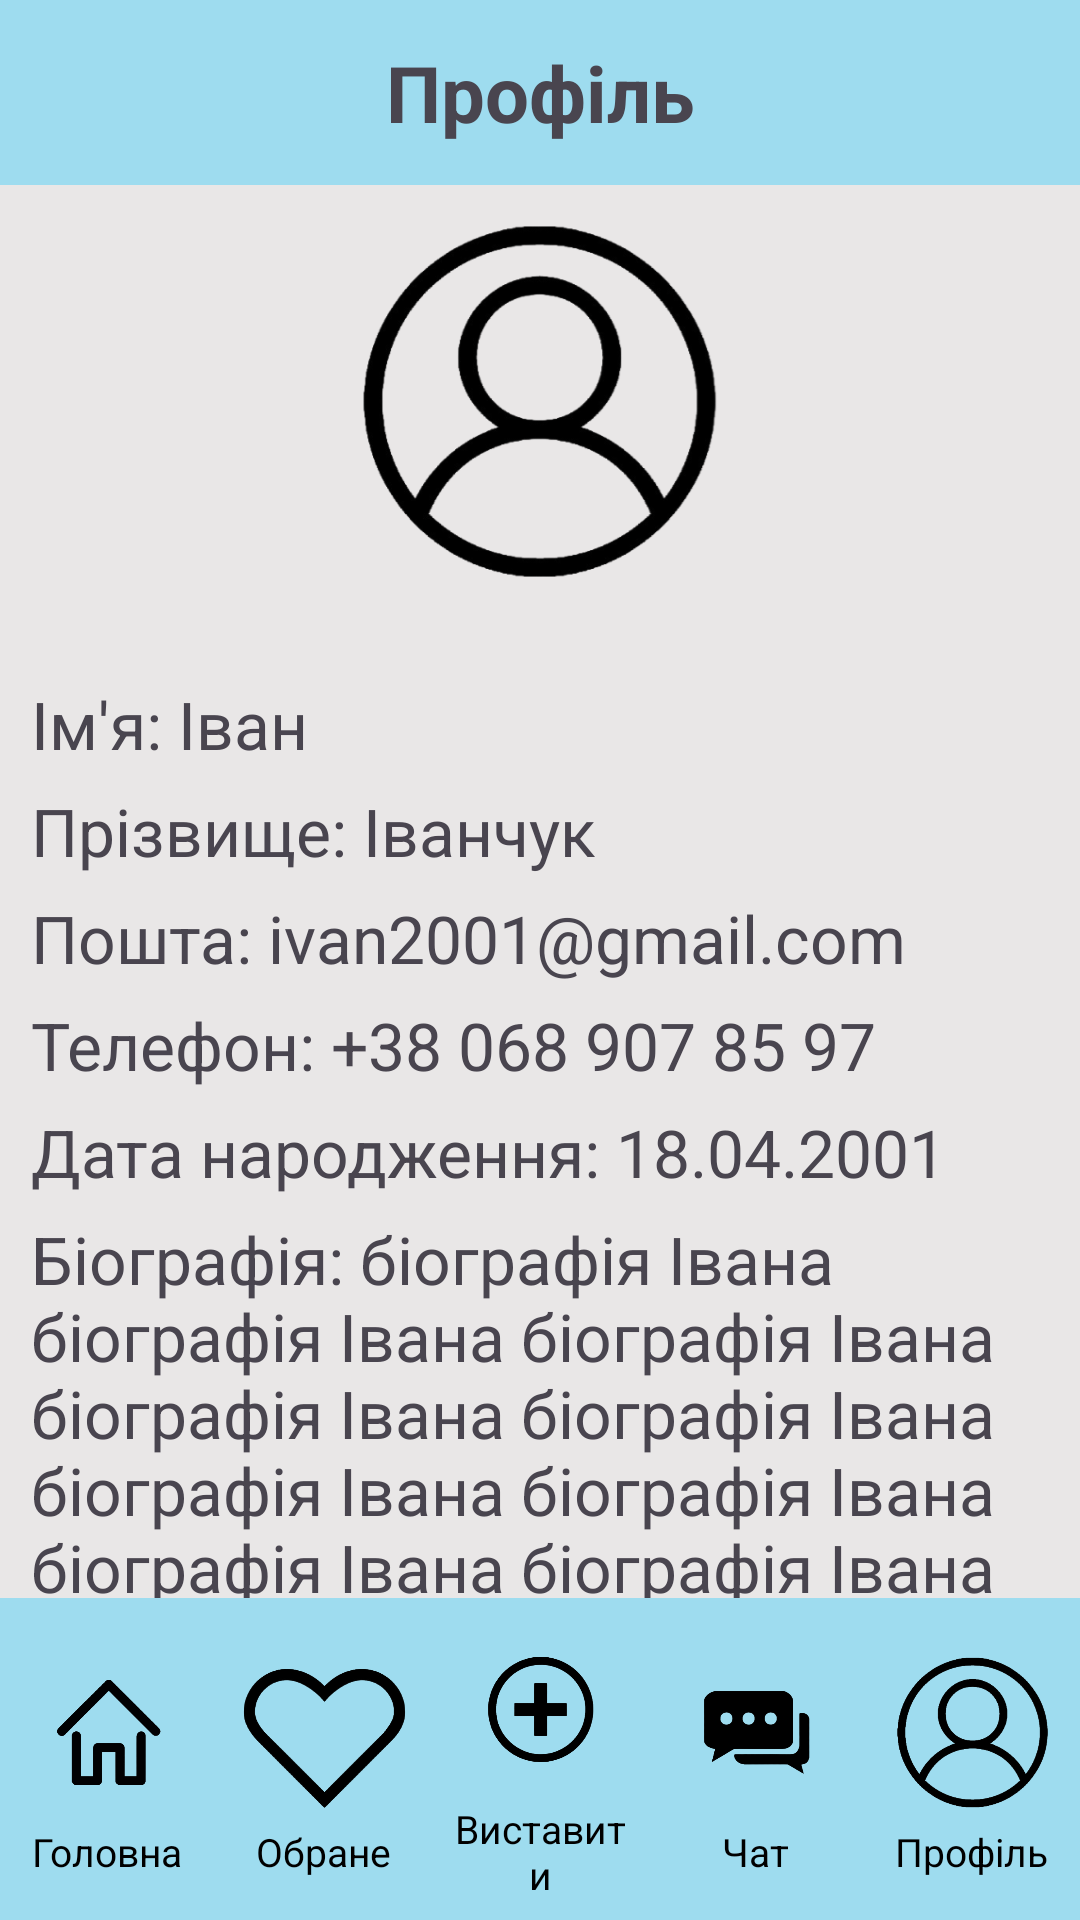

Icon click points for this 1080*1920 phone screenshot, format (x=x, y=y):
add advertisement: (x=541, y=1709)
avatar image: (x=539, y=401)
chat: (x=757, y=1732)
heart: (x=324, y=1738)
house: (x=109, y=1732)
